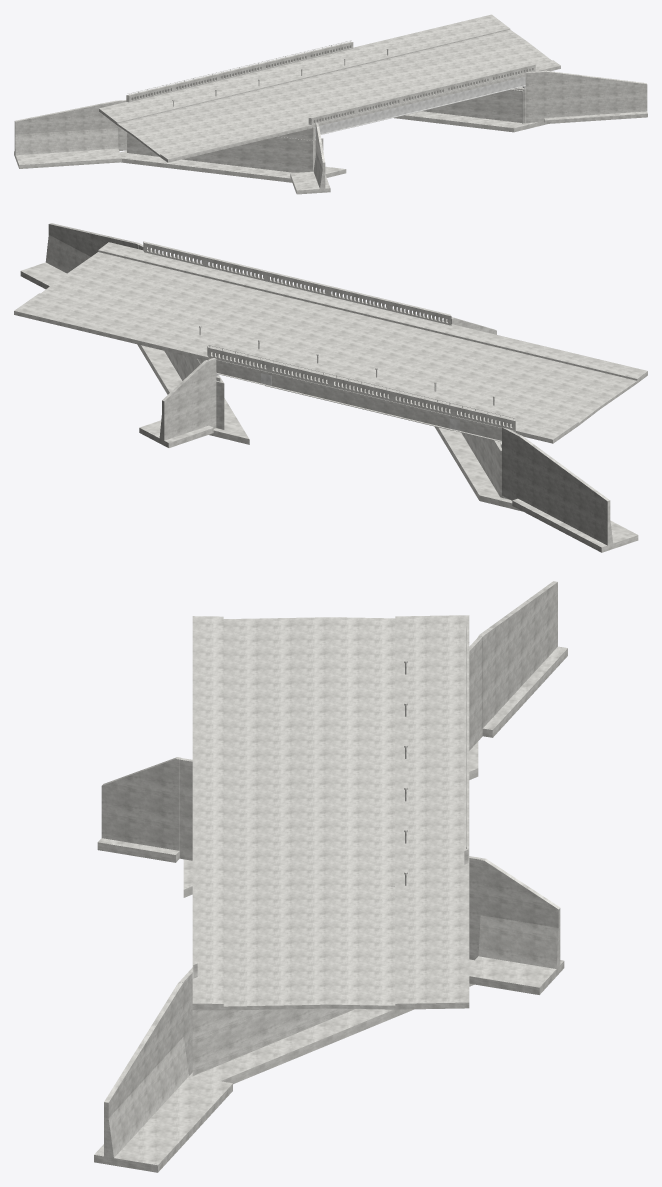
File: model_render.glb
3 renders of one model, top to bottom at view 1: azimuth 30°, elevation 25°; view 2: azimuth 150°, elevation 25°; view 3: azimuth 270°, elevation 25°, orthographic. The views are drawn at different scales.
Parts seen in each view (by area): view 1: deck, approach_1, approach_2, wing_2_1, wing_1_-1, trail_pavers, abutment_1, beam_9, abutment_2, footing_1, wing_footing_1_-1, footing_2 (+15 smaller); view 2: deck, approach_1, approach_2, wing_1_-1, trail_pavers, walk_1, beam_1, wing_2_-1, wing_2_1, footing_1, footing_2, wing_footing_1_-1 (+14 smaller); view 3: deck, approach_2, approach_1, trail_pavers, wing_2_1, wing_2_-1, wing_1_-1, wing_1_1, walk_1, abutment_2, wing_footing_2_1, footing_2 (+3 smaller).
Boxes of the visible parts, x1,y1,x2,y2 form: deck: (176,56,525,127); approach_1: (99,102,311,162); approach_2: (353,14,560,71); wing_2_1: (525,70,647,122); wing_1_-1: (14,100,126,155); trail_pavers: (130,49,399,108); abutment_1: (127,132,323,172); beam_9: (315,76,525,136); abutment_2: (422,88,525,123); footing_1: (120,151,346,182); wing_footing_1_-1: (14,148,121,168); footing_2: (394,111,547,132); deck: (150,264,515,432); approach_1: (451,324,647,443); approach_2: (14,242,208,360); wing_1_-1: (502,427,613,545); trail_pavers: (191,329,511,426); walk_1: (144,252,457,337); beam_1: (216,362,501,441); wing_2_-1: (159,358,216,440); wing_2_1: (45,223,155,273); footing_1: (434,426,522,511); footing_2: (137,344,249,444); wing_footing_1_-1: (512,498,638,552); deck: (223,676,395,968); approach_2: (192,863,469,1010); approach_1: (192,615,469,757); trail_pavers: (395,644,464,894); wing_2_1: (104,967,192,1157); wing_2_-1: (469,856,560,968); wing_1_-1: (469,581,557,750); wing_1_1: (101,757,192,860); walk_1: (192,746,223,978); abutment_2: (192,1008,354,1075); wing_footing_2_1: (94,1076,232,1172); footing_2: (189,959,474,1084).
Bounding box in the file's own units: 88.15 × 10.01 × 33.7.
Materials: 3 (2 with a texture image).
